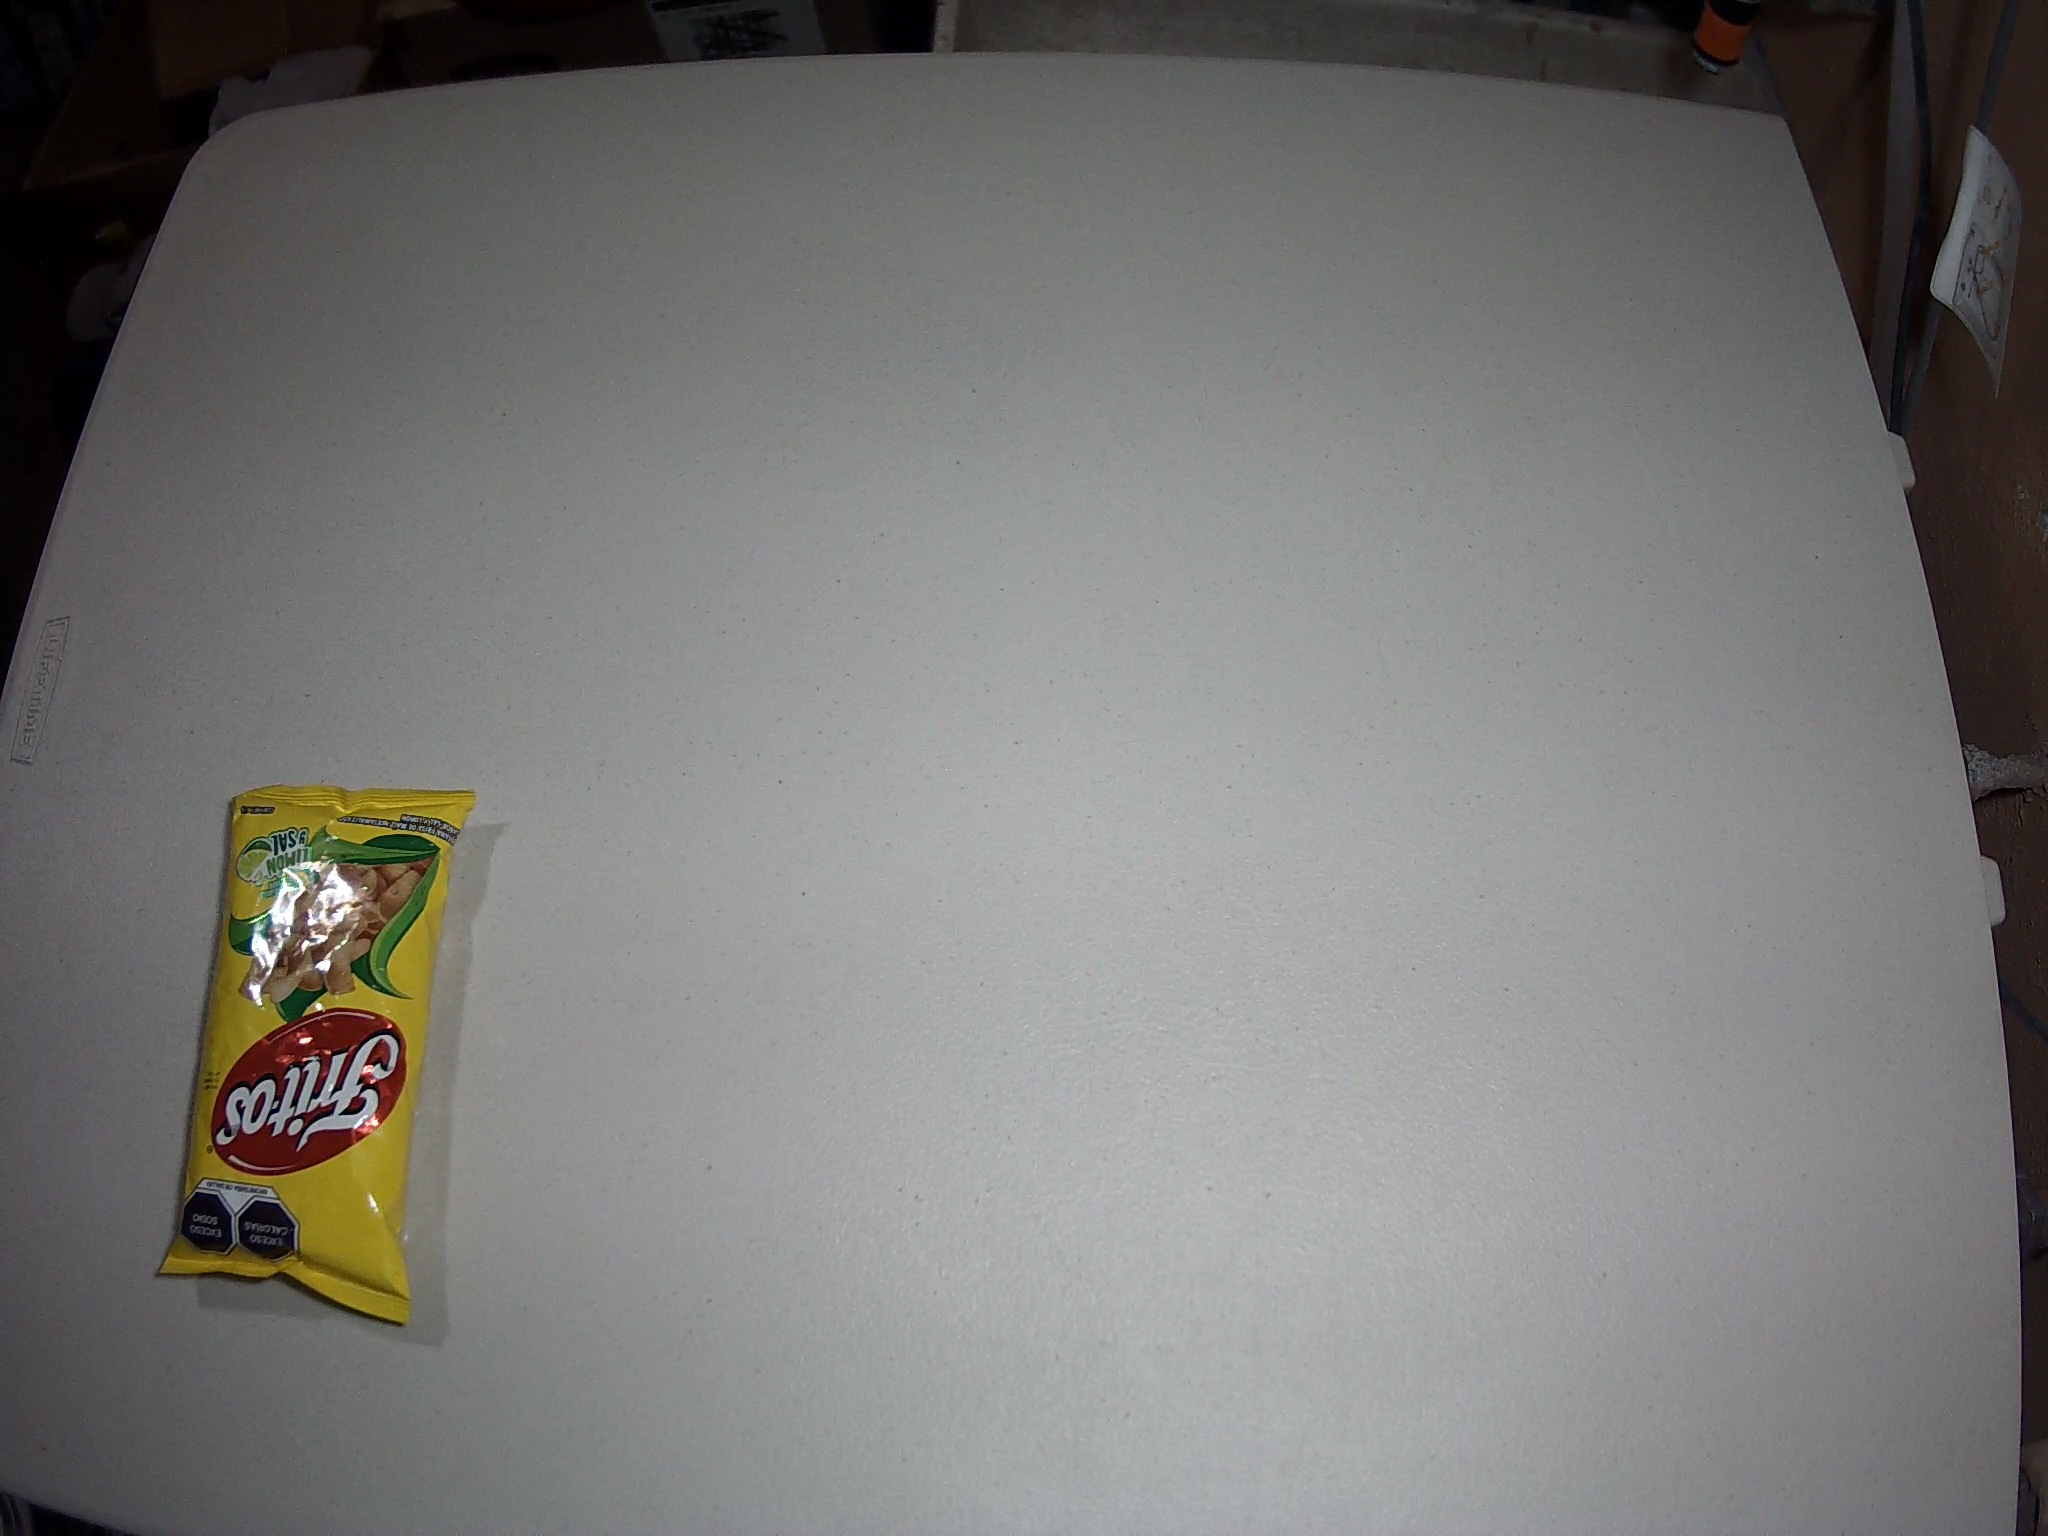FritosSalLimon_65_F: (156, 784, 477, 1329)
